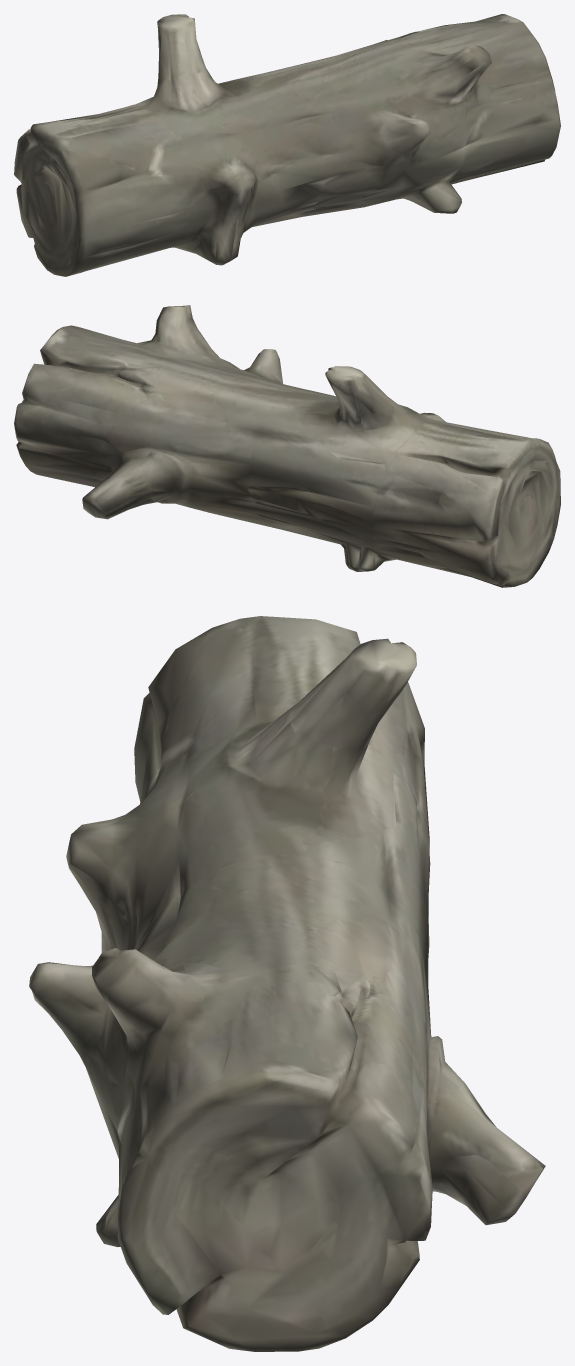
The model's file is fallen-trunk.glb.
The picture shows the model from 3 angles, top to bottom: view 1: azimuth 30°, elevation 25°; view 2: azimuth 150°, elevation 25°; view 3: azimuth 270°, elevation 25°; orthographic projection. The views are drawn at different scales.
Bounding box in the file's own units: 1.9 × 0.7335 × 0.8886.
Materials: 1 (1 with a texture image).
